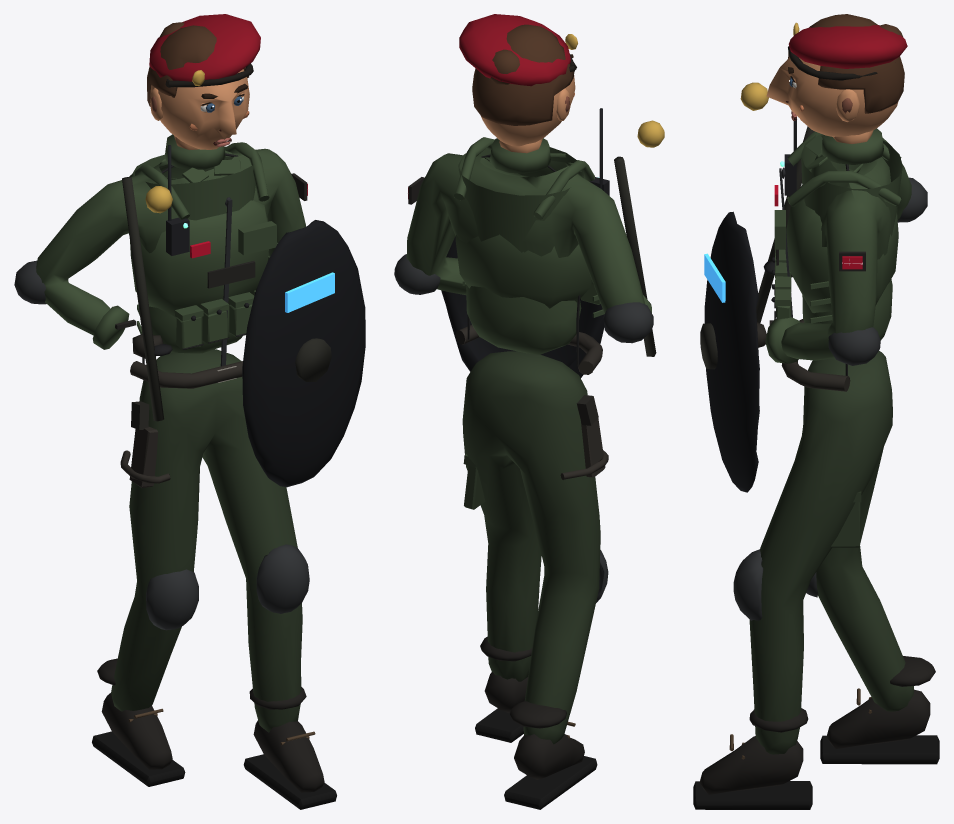
The model's file is enhed_std.glb.
The picture shows the model from 3 angles, left to right: view 1: azimuth 30°, elevation 25°; view 2: azimuth 150°, elevation 25°; view 3: azimuth 270°, elevation 25°; orthographic projection. The views are drawn at different scales.
Visible parts, largest first — view 1: krop_net; view 2: krop_net; view 3: krop_net.
Part boxes in pixels (x1,y1,x2,y2): krop_net: (14,14,365,809); krop_net: (394,14,664,809); krop_net: (693,14,939,809).
Bounding box in the file's own units: 0.8428 × 2.12 × 0.6244.
